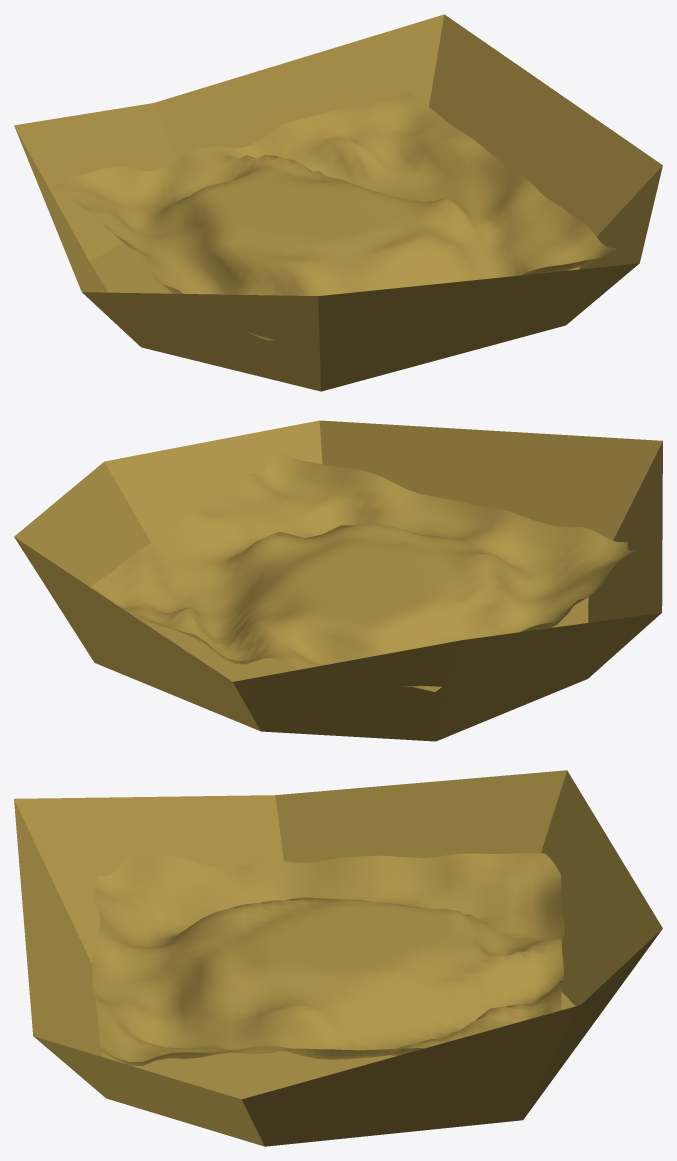
File: Space horror game map.fbx
3 views of the same model, one above another, from view 1: azimuth 30°, elevation 25°; view 2: azimuth 150°, elevation 25°; view 3: azimuth 270°, elevation 25° (orthographic). The views are drawn at different scales.
Visible parts, largest first — view 1: Plane, Cube; view 2: Plane, Cube; view 3: Plane, Cube.
Part boxes in pixels (x1,y1,x2,y2): Plane: (14,14,662,391); Cube: (54,92,617,340); Plane: (14,420,662,741); Cube: (90,450,634,691); Plane: (14,770,662,1146); Cube: (92,853,564,1065).
Size of the model in its own units: 47936 by 10570 by 43210.
